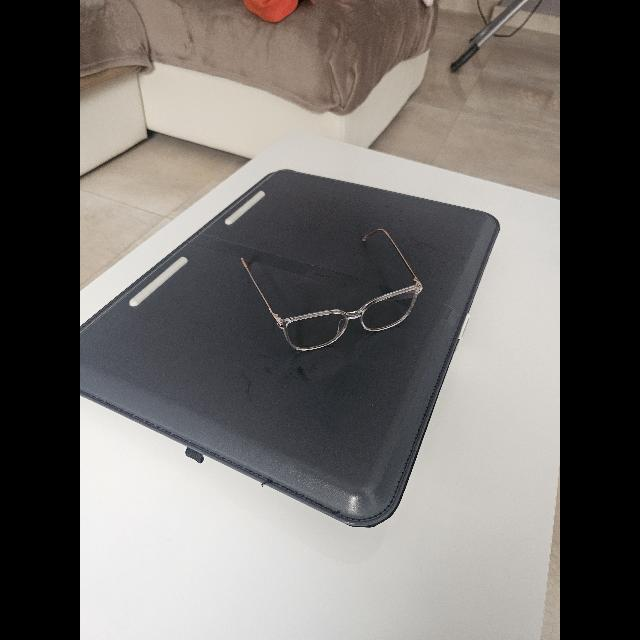glasses: (242, 229, 422, 351)
